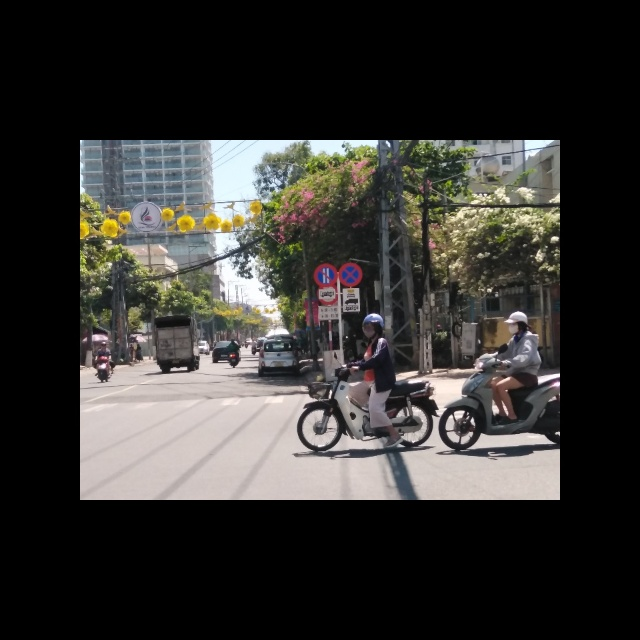Cấm dừng xe và đỗ xe: (339, 262, 363, 288)
Cấm đỗ xe ngày chẵn: (314, 263, 338, 287)
